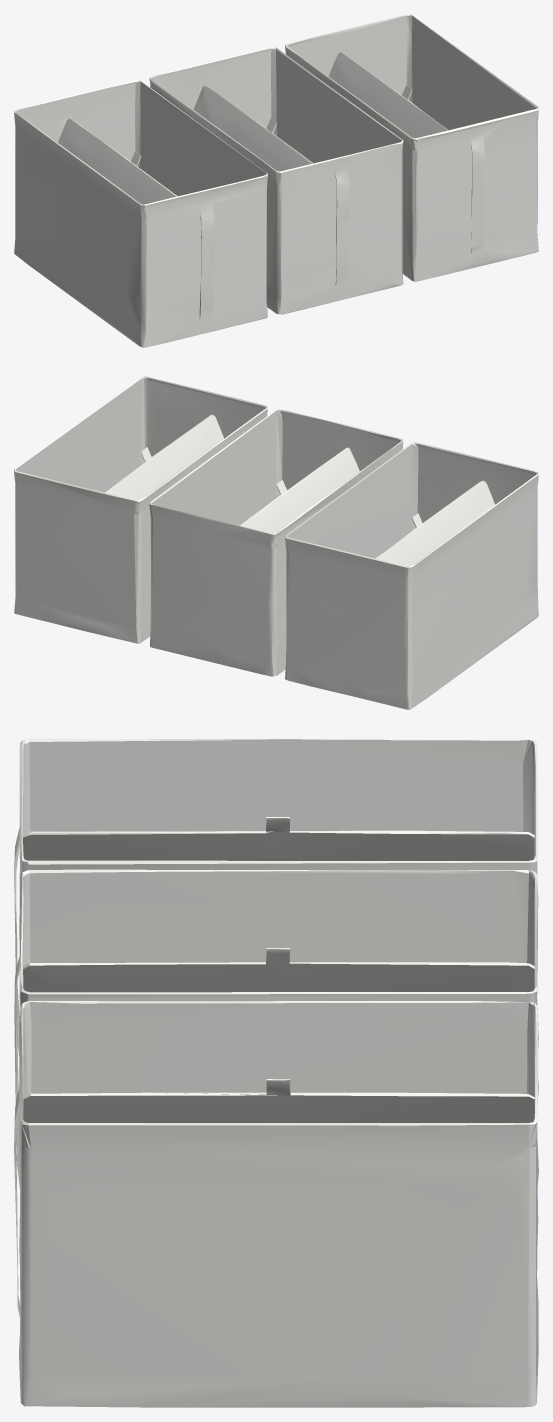
File: 13 - SKUBB - 收納盒 3件組, 白色, 31x55x33 公分 IKEA 線上購物.glb
3 renders of one model, top to bottom at view 1: azimuth 30°, elevation 25°; view 2: azimuth 150°, elevation 25°; view 3: azimuth 270°, elevation 25°, orthographic. The views are drawn at different scales.
Parts seen in each view (by area): view 1: ProcessedMeshNode; view 2: ProcessedMeshNode; view 3: ProcessedMeshNode.
Boxes of the visible parts, bbox=[...] form: ProcessedMeshNode: bbox=[14, 14, 538, 347]; ProcessedMeshNode: bbox=[14, 376, 538, 709]; ProcessedMeshNode: bbox=[14, 738, 538, 1407].
Size of the model in its own units: 0.9652 by 0.3347 by 0.5549.
Materials: 2 (2 with a texture image).
